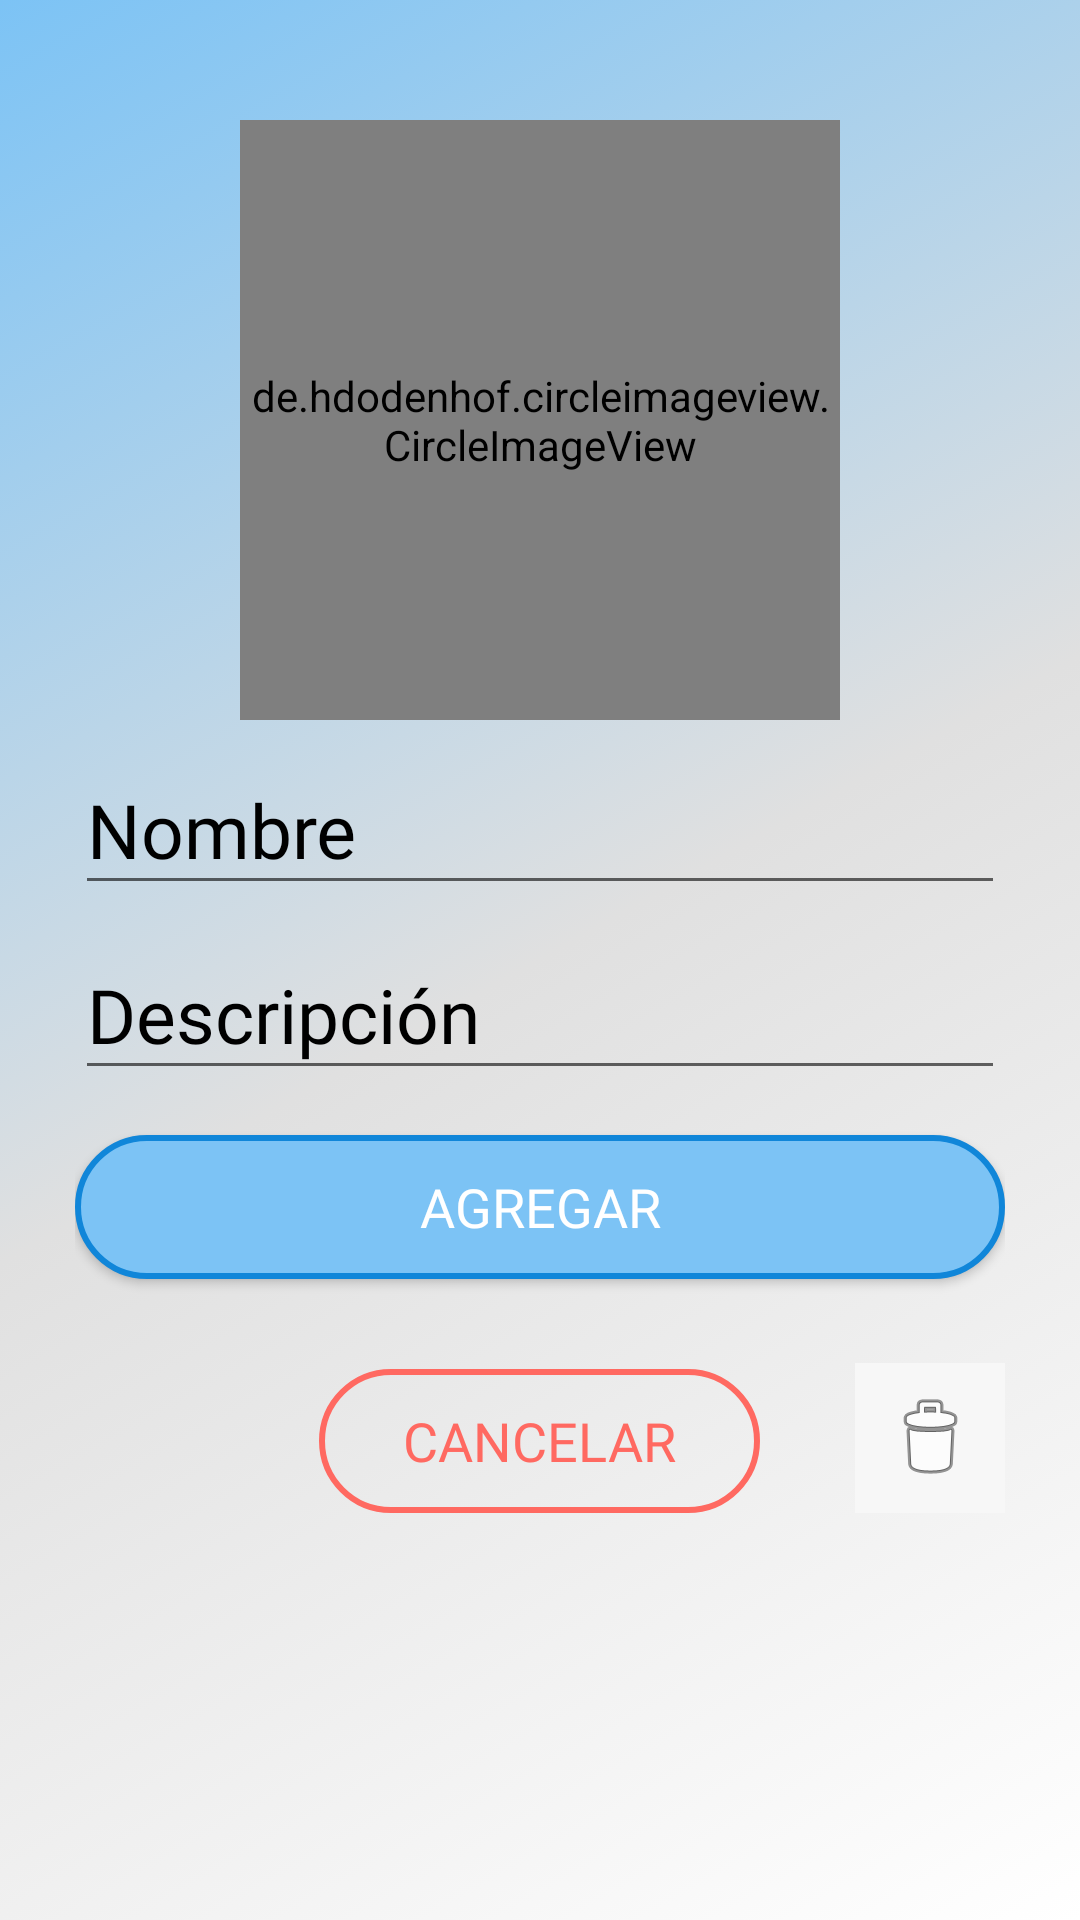

Icons on this 1080px×1920px Android screen, each with its box as box(x1, y1, x2, y2):
delete: box(903, 1399, 958, 1474)
